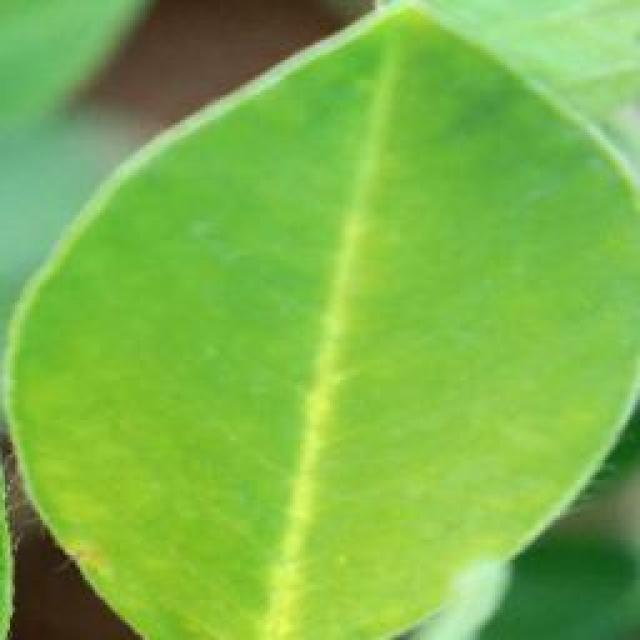Yellow_and_black_sigatoka: (20, 5, 640, 640)
